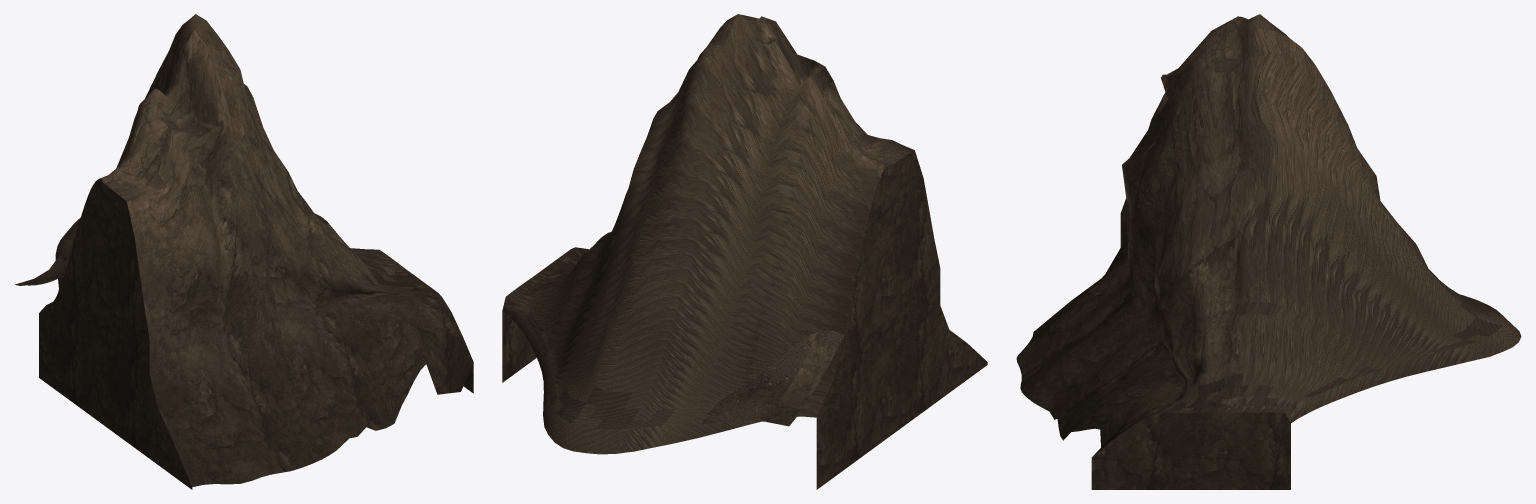
The model's file is seacliff_endcap_right_h3_a_v5_dead.glb.
3 renders of one model, left to right at view 1: azimuth 30°, elevation 25°; view 2: azimuth 150°, elevation 25°; view 3: azimuth 270°, elevation 25°, orthographic. The views are drawn at different scales.
Visible parts, largest first — view 1: seacliff_endcap_right_h3_a; view 2: seacliff_endcap_right_h3_a; view 3: seacliff_endcap_right_h3_a.
Part boxes in pixels (bbox=[...]): seacliff_endcap_right_h3_a: bbox=[15, 14, 473, 489]; seacliff_endcap_right_h3_a: bbox=[502, 14, 987, 489]; seacliff_endcap_right_h3_a: bbox=[1016, 14, 1521, 489].
Bounding box in the file's own units: 6 × 6.81 × 8.25.
2 materials, 2 textured.
